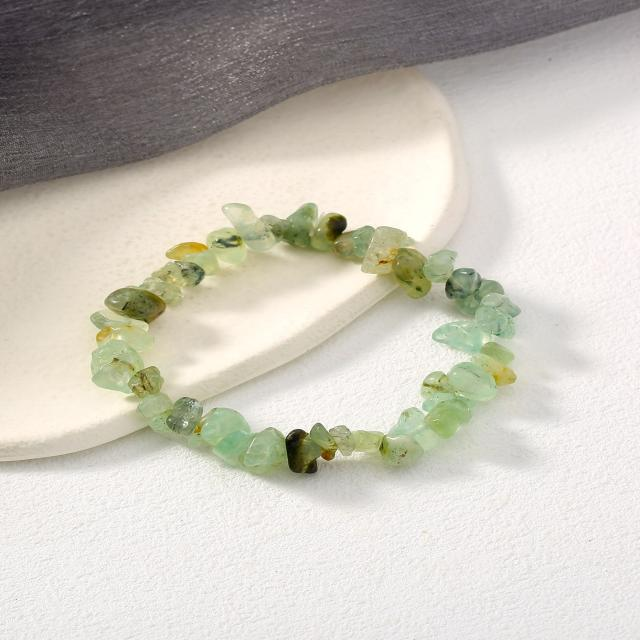bracelet: (42, 155, 612, 538)
